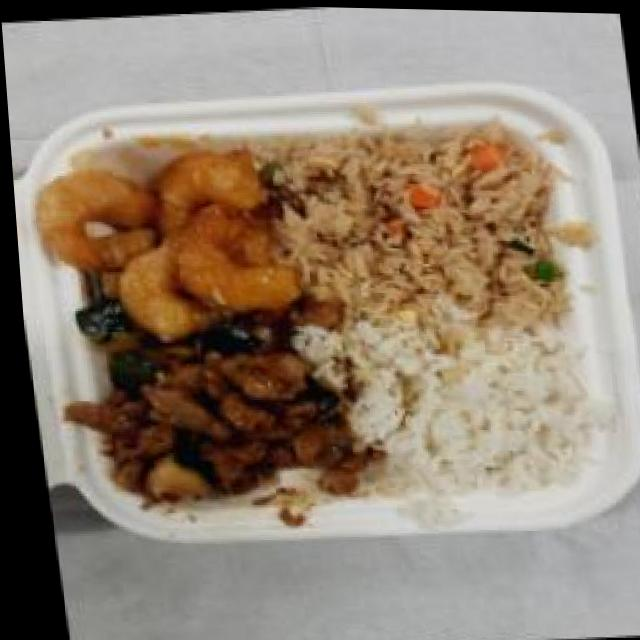Fried Rice: (275, 117, 567, 340)
Honey Walnut Shrimp: (20, 135, 310, 353)
Kung Pao Chicken: (54, 319, 353, 514)
White Steamed Rice: (343, 313, 599, 505)
